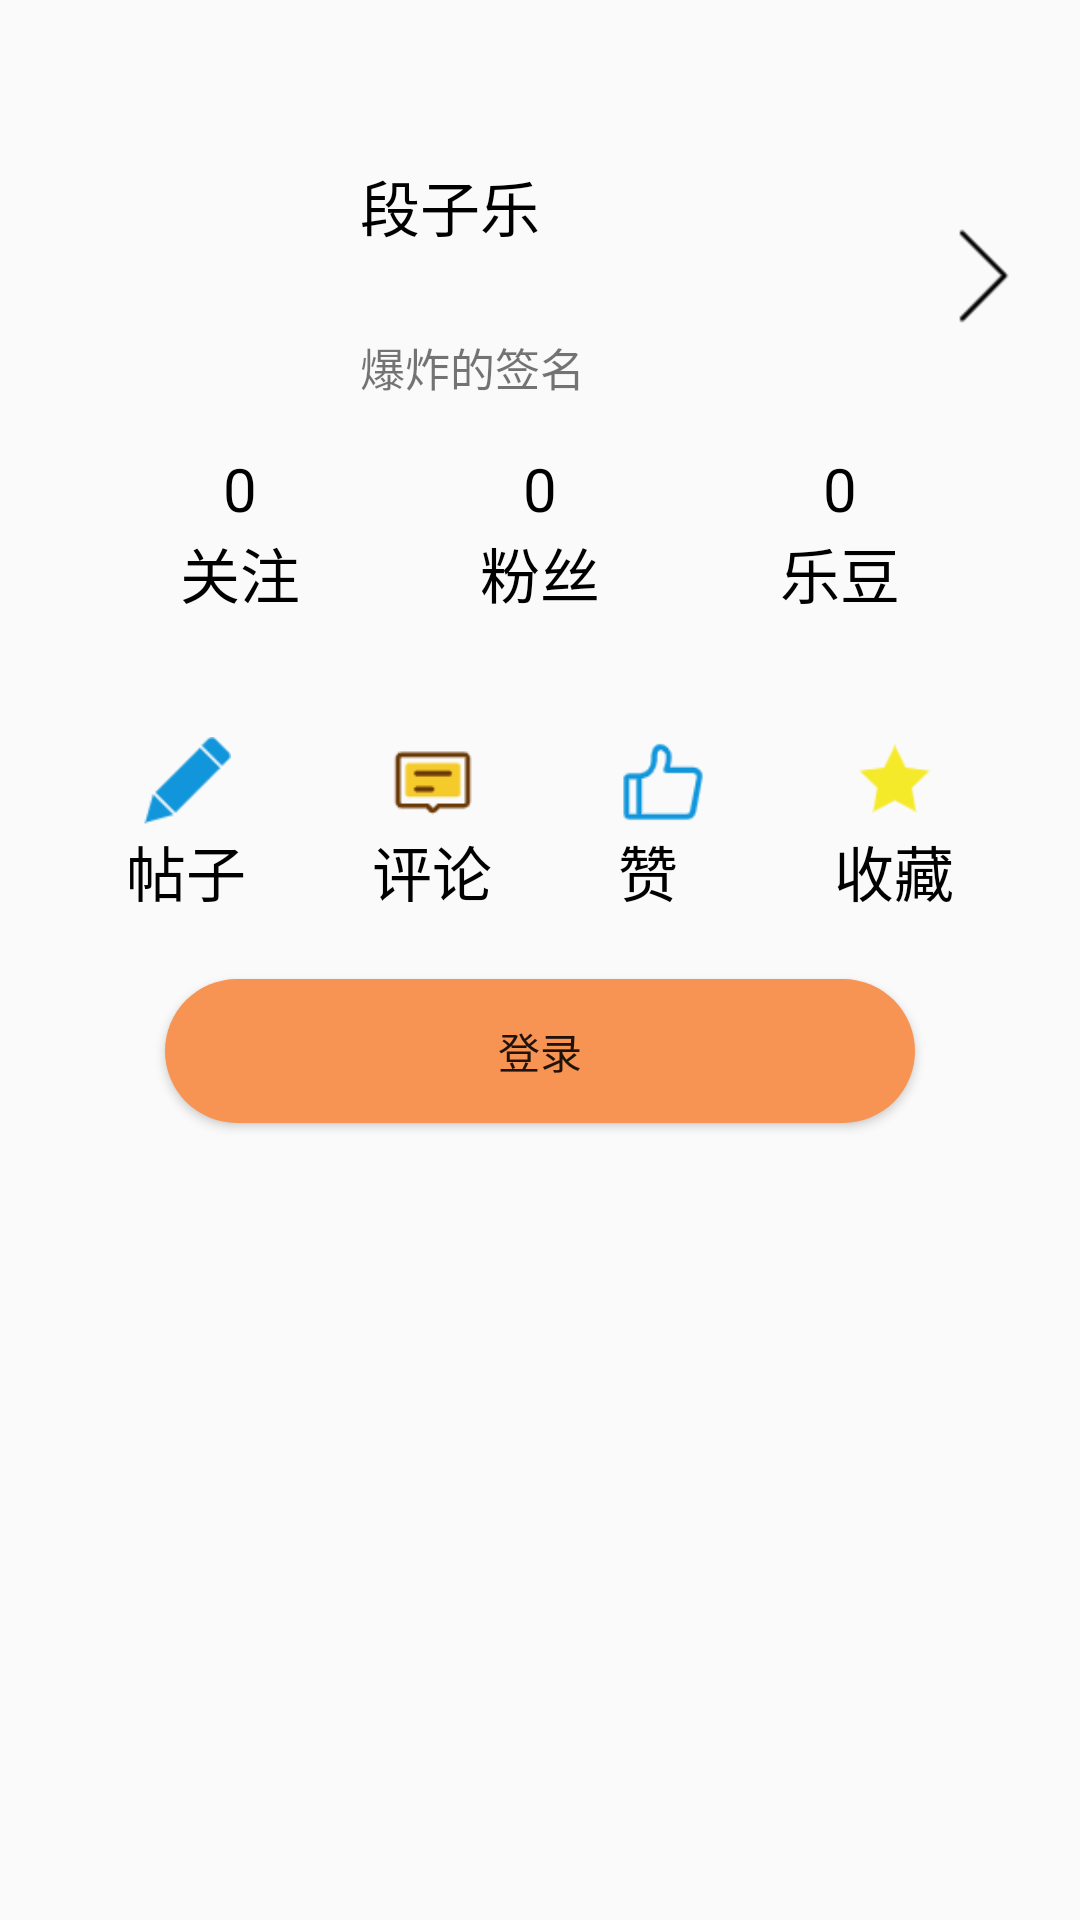

Named icons in this screenshot (1080 x 1920) and their centers, point (x, y):
page like: point (663, 782)
to right: point (984, 276)
